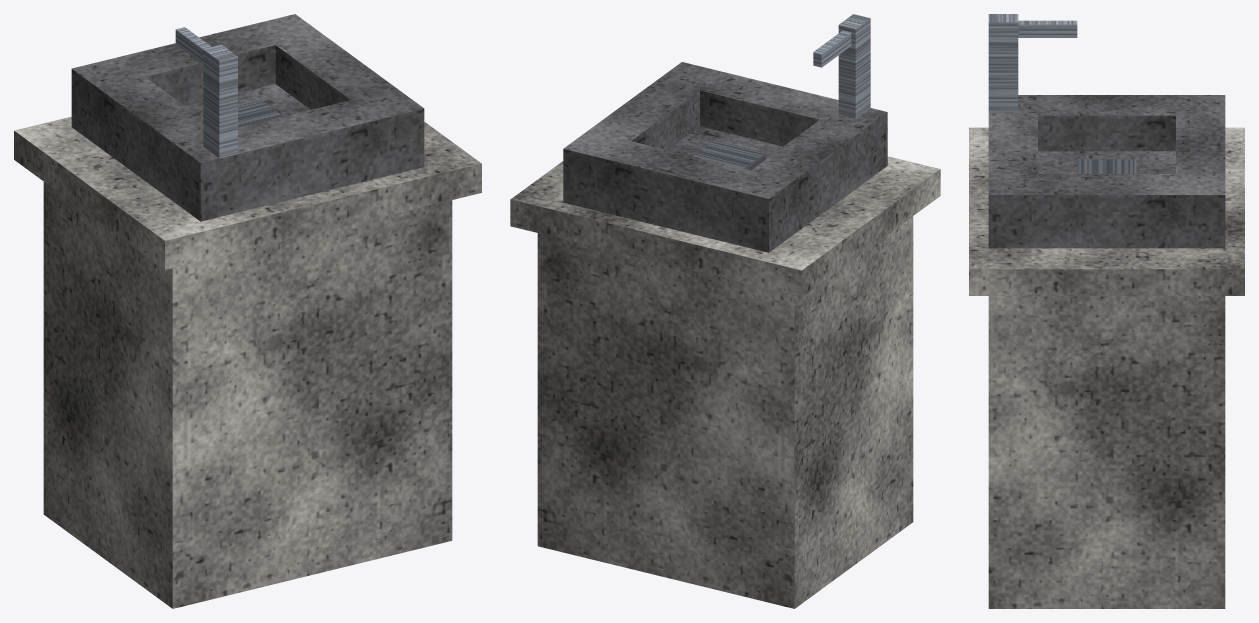
The model's file is sink.fbx.
3 views of the same model, side by side, from view 1: azimuth 30°, elevation 25°; view 2: azimuth 150°, elevation 25°; view 3: azimuth 270°, elevation 25° (orthographic). The views are drawn at different scales.
Visible parts, largest first — view 1: sink; view 2: sink; view 3: sink.
Boxes of the visible parts, x1,y1,x2,y2 form: sink: (14, 14, 481, 608); sink: (510, 14, 940, 608); sink: (969, 14, 1244, 608).
Bounding box in the file's own units: 68 × 110 × 56.
